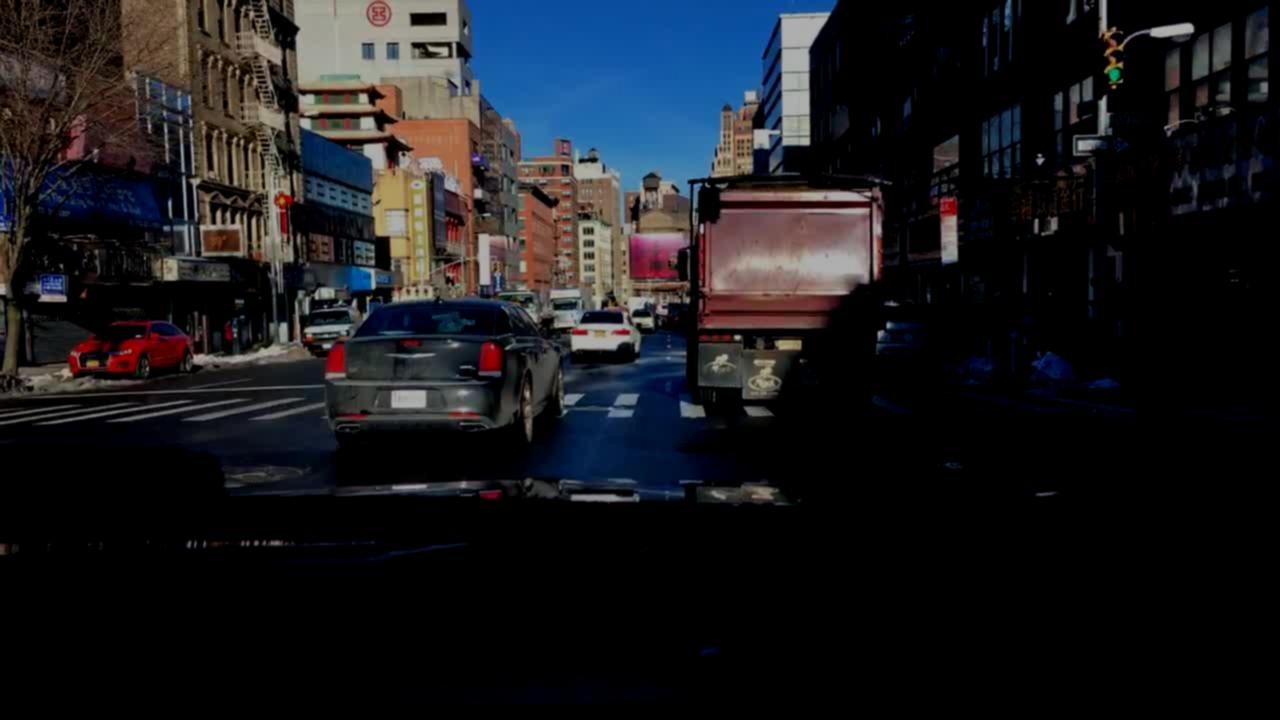Chrysler: (388, 350, 442, 362)
